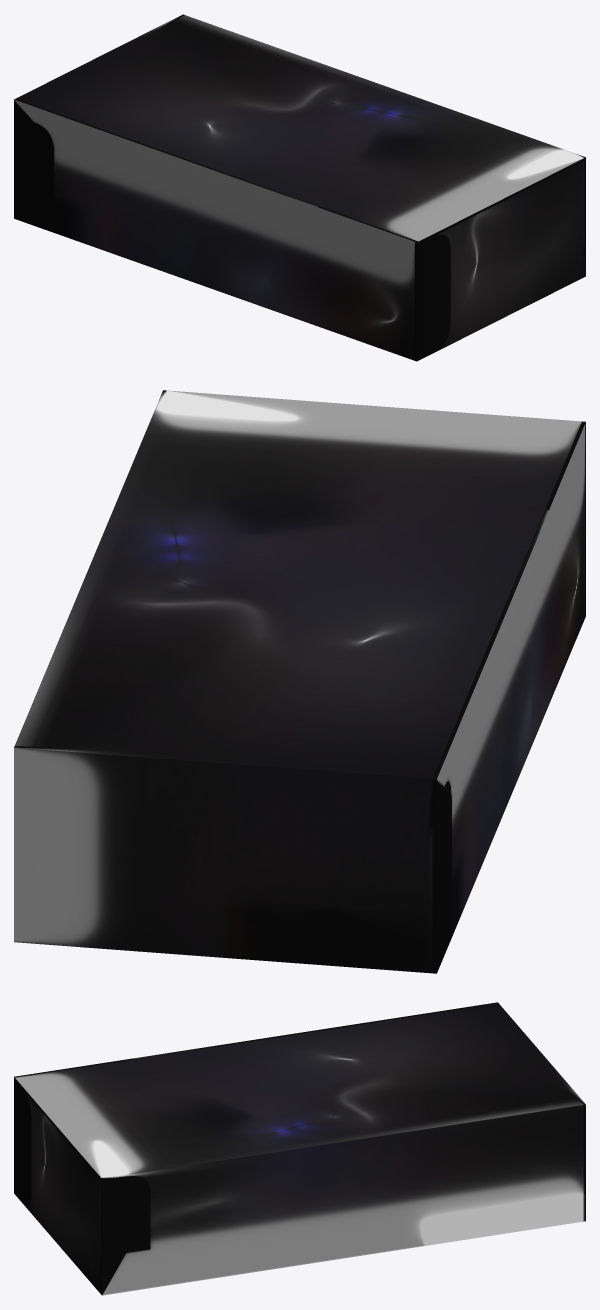
The model's file is caixa.glb.
3 views of the same model, one above another, from view 1: azimuth 30°, elevation 25°; view 2: azimuth 150°, elevation 25°; view 3: azimuth 270°, elevation 25° (orthographic). The views are drawn at different scales.
Parts seen in each view (by area): view 1: CAIXA TUDO, ABAS; view 2: CAIXA TUDO, ABAS; view 3: CAIXA TUDO, ABAS.
Part boxes in pixels (x1=…): CAIXA TUDO: x1=14, y1=14, x2=585, y2=360; ABAS: x1=14, y1=98, x2=585, y2=361; CAIXA TUDO: x1=14, y1=390, x2=585, y2=973; ABAS: x1=432, y1=426, x2=585, y2=778; CAIXA TUDO: x1=14, y1=1003, x2=585, y2=1295; ABAS: x1=14, y1=1002, x2=585, y2=1295.
Size of the model in its own units: 264 by 81.25 by 361.
Materials: 20 (17 with a texture image).
